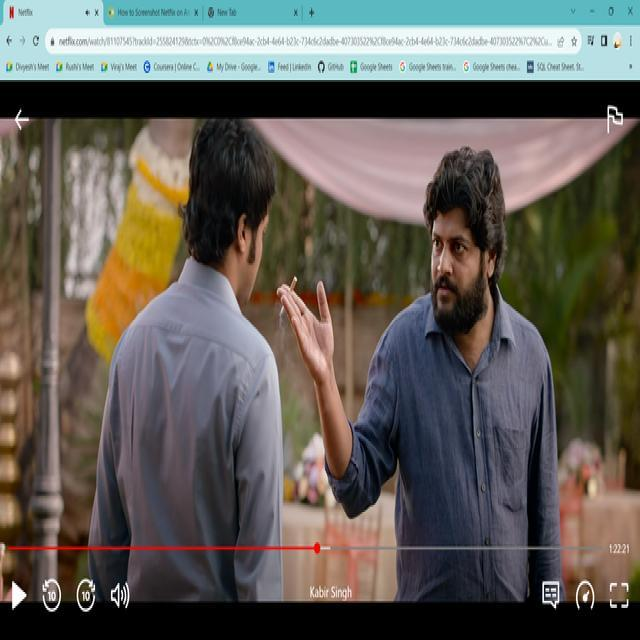smoking: (278, 266, 301, 328)
